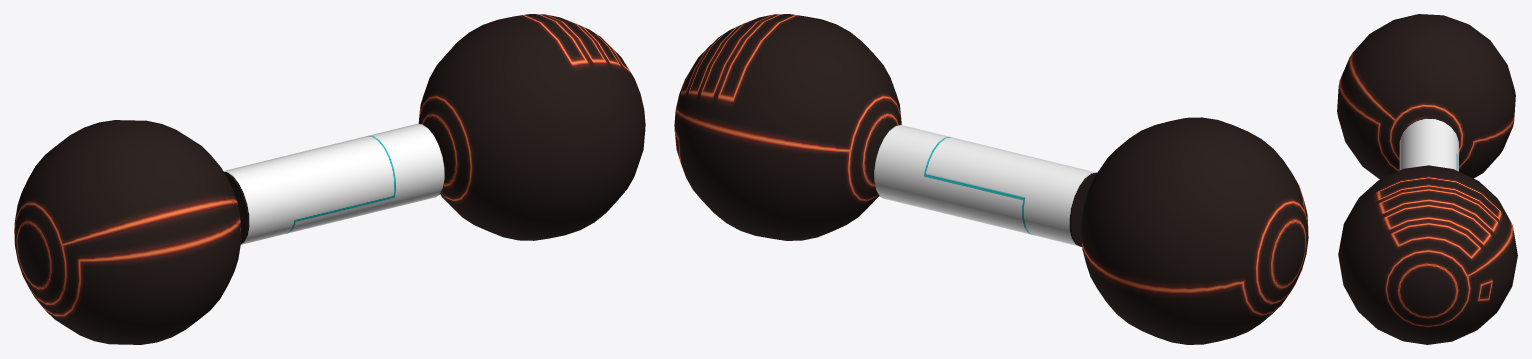
Rendered from PlayerMini.fbx.
The picture shows the model from 3 angles, left to right: view 1: azimuth 30°, elevation 25°; view 2: azimuth 150°, elevation 25°; view 3: azimuth 270°, elevation 25°; orthographic projection. The views are drawn at different scales.
Visible parts, largest first — view 1: polySurface4_ncl1_1; view 2: polySurface4_ncl1_1; view 3: polySurface4_ncl1_1.
Boxes of the visible parts, bbox=[...] form: polySurface4_ncl1_1: bbox=[14, 14, 645, 344]; polySurface4_ncl1_1: bbox=[674, 14, 1308, 344]; polySurface4_ncl1_1: bbox=[1337, 14, 1517, 344].
Size of the model in its own units: 2.2 by 0.7375 by 0.7247.
1 material, 1 textured.
